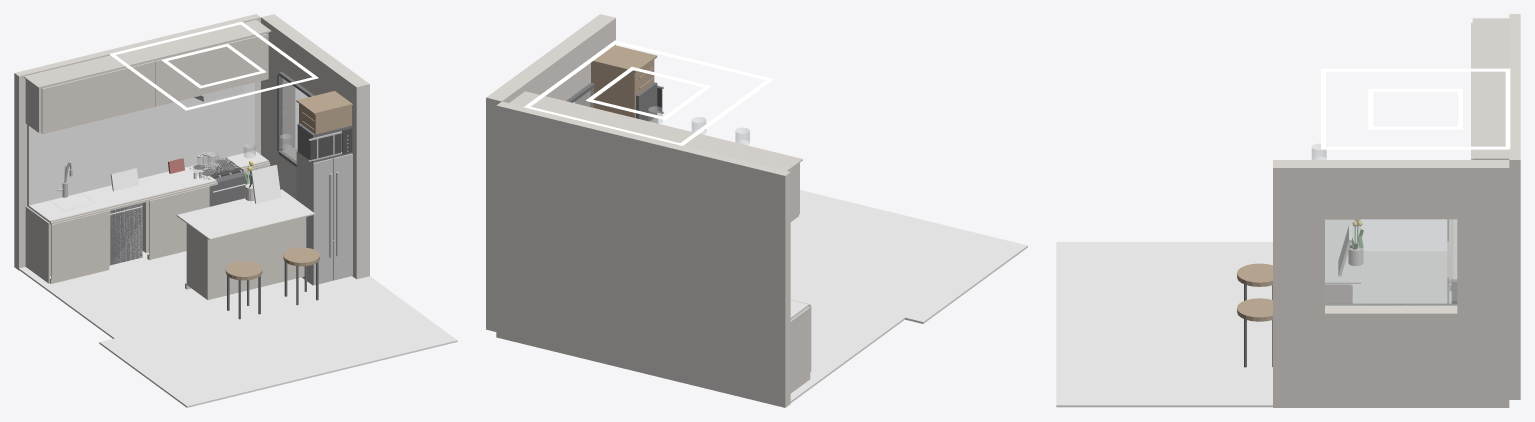
Rendered from kitchen-presentation.glb.
3 renders of one model, left to right at view 1: azimuth 30°, elevation 25°; view 2: azimuth 150°, elevation 25°; view 3: azimuth 270°, elevation 25°, orthographic. The views are drawn at different scales.
Parts seen in each view (by area): view 1: ARC_Floor_reception_join, FUR_r02_backsplash, ARC_Floor_r02_kitchen, FUR_r02_bar_body, ARC_Wall_N_Kitchen, ARC_Wall_E_PierS, FUR_r02_cab_upper_crown_step, ARC_Wall_E_PierN, FUR_r02_ctr_main, FUR_r02_bar_counter, FUR_r02_cab_upper_door_1, FUR_r02_cab_upper_door_2 (+34 smaller); view 2: ARC_Wall_N_Kitchen, ARC_Floor_reception_join, ARC_Floor_r02_kitchen, FUR_r02_cab_upper_crown_step, ARC_Wall_E_PierN, ARC_Wall_E_Lintel, FUR_r02_cab_tall, FUR_r02_cab_lower_n_sideW, ARC_Wall_E_PierS, FUR_r02_cab_tall_crown, FUR_r02_microwave, IOT_LIGHT_PROFILE_KITCHEN_OUTER_S (+3 smaller); view 3: ARC_Floor_reception_join, ARC_Wall_E_Sill, ARC_Wall_E_PierN, ARC_Wall_E_PierS, ARC_Win_W_KIT_OUTER_Glass, ARC_Wall_E_Lintel, FUR_r02_cab_upper_crown_step, ARC_Floor_r02_kitchen, ARC_Wall_N_Kitchen, FUR_r02_bar_counter, FUR_r02_bar_stool_2_seat, FUR_r02_bar_stool_1_seat (+4 smaller).
Boxes of the visible parts, bbox=[...] form: ARC_Floor_reception_join: bbox=[99, 276, 457, 407]; FUR_r02_backsplash: bbox=[27, 82, 254, 205]; ARC_Floor_r02_kitchen: bbox=[19, 251, 356, 338]; FUR_r02_bar_body: bbox=[187, 217, 306, 299]; ARC_Wall_N_Kitchen: bbox=[14, 14, 260, 270]; ARC_Wall_E_PierS: bbox=[335, 69, 369, 279]; FUR_r02_cab_upper_crown_step: bbox=[23, 19, 271, 88]; ARC_Wall_E_PierN: bbox=[261, 14, 295, 189]; FUR_r02_ctr_main: bbox=[27, 165, 215, 222]; FUR_r02_bar_counter: bbox=[177, 189, 314, 239]; FUR_r02_cab_upper_door_1: bbox=[41, 75, 98, 134]; FUR_r02_cab_upper_door_2: bbox=[98, 61, 155, 120]; ARC_Wall_N_Kitchen: bbox=[496, 101, 790, 407]; ARC_Floor_reception_join: bbox=[790, 190, 1027, 323]; ARC_Floor_r02_kitchen: bbox=[790, 290, 904, 402]; FUR_r02_cab_upper_crown_step: bbox=[509, 91, 802, 171]; ARC_Wall_E_PierN: bbox=[486, 79, 526, 331]; ARC_Wall_E_Lintel: bbox=[511, 32, 590, 100]; FUR_r02_cab_tall: bbox=[591, 60, 654, 117]; FUR_r02_cab_lower_n_sideW: bbox=[790, 307, 810, 393]; ARC_Wall_E_PierS: bbox=[575, 14, 615, 106]; FUR_r02_cab_tall_crown: bbox=[592, 45, 657, 72]; FUR_r02_microwave: bbox=[636, 82, 657, 121]; IOT_LIGHT_PROFILE_KITCHEN_OUTER_S: bbox=[614, 41, 772, 80]; ARC_Floor_reception_join: bbox=[1056, 242, 1272, 407]; ARC_Wall_E_Sill: bbox=[1325, 305, 1457, 407]; ARC_Wall_E_PierN: bbox=[1457, 160, 1509, 407]; ARC_Wall_E_PierS: bbox=[1273, 160, 1324, 407]; ARC_Win_W_KIT_OUTER_Glass: bbox=[1325, 219, 1456, 305]; ARC_Wall_E_Lintel: bbox=[1325, 160, 1457, 219]; FUR_r02_cab_upper_crown_step: bbox=[1472, 18, 1509, 159]; ARC_Floor_r02_kitchen: bbox=[1352, 251, 1451, 303]; ARC_Wall_N_Kitchen: bbox=[1509, 14, 1520, 399]; FUR_r02_bar_counter: bbox=[1325, 219, 1360, 283]; FUR_r02_bar_stool_2_seat: bbox=[1237, 298, 1272, 321]; FUR_r02_bar_stool_1_seat: bbox=[1237, 263, 1272, 286].
Size of the model in its own units: 4.08 by 2.8 by 4.91.
